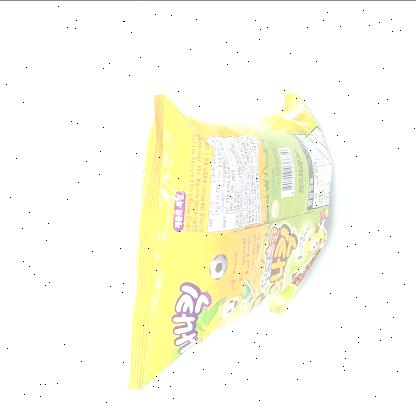Others: (119, 79, 341, 395)
